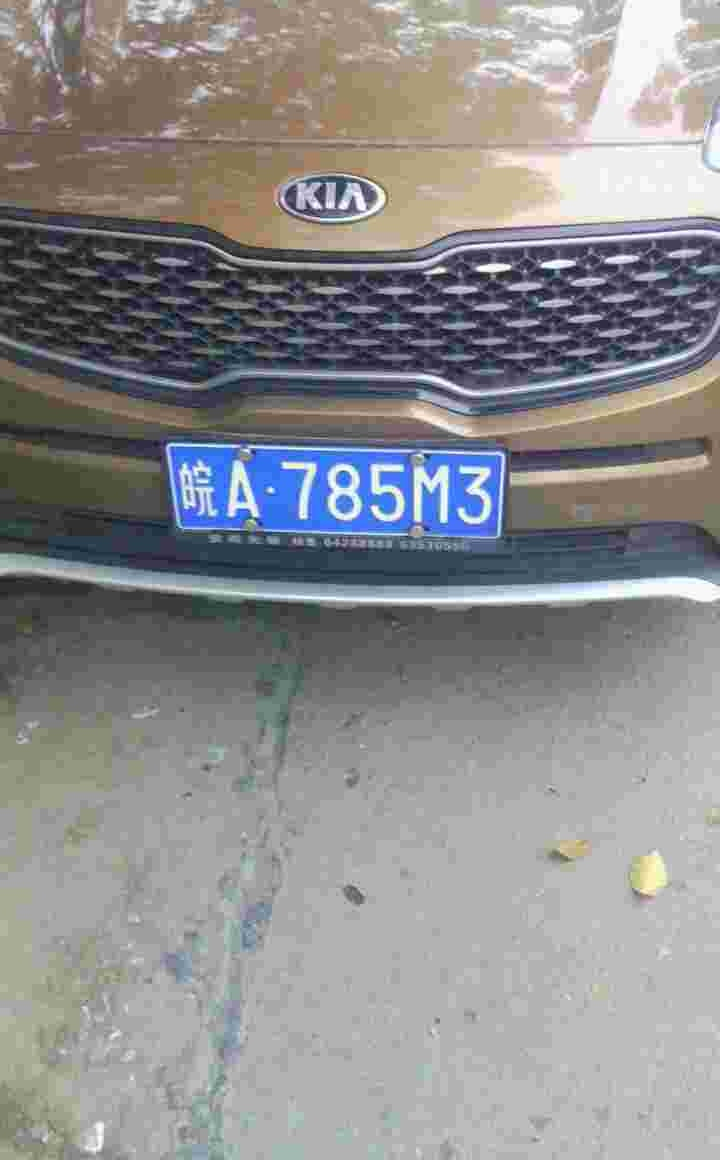license_plate: (170, 446, 509, 543)
